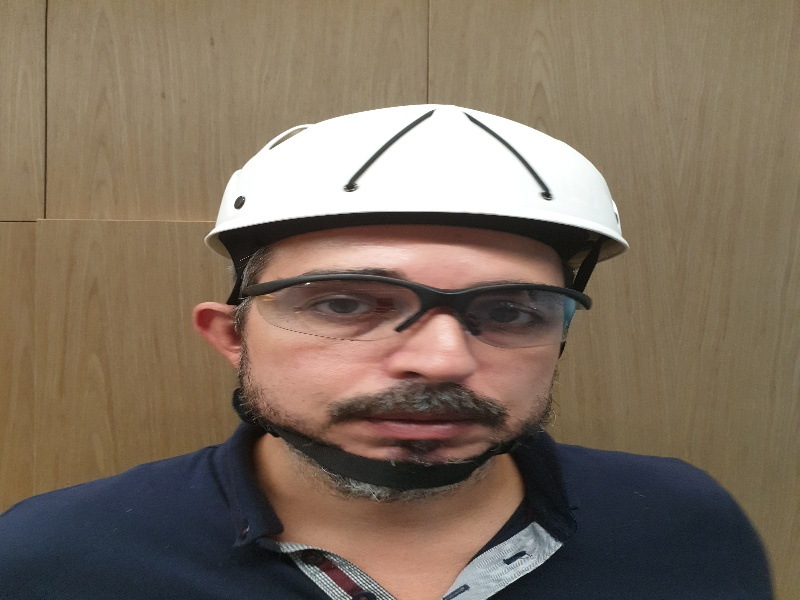Baret: (203, 102, 628, 252)
Gozluk: (245, 274, 593, 356)
